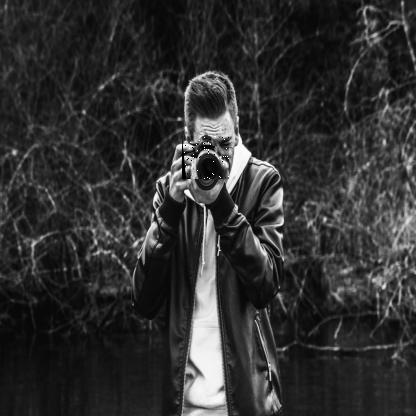Camera: (183, 137, 231, 181)
